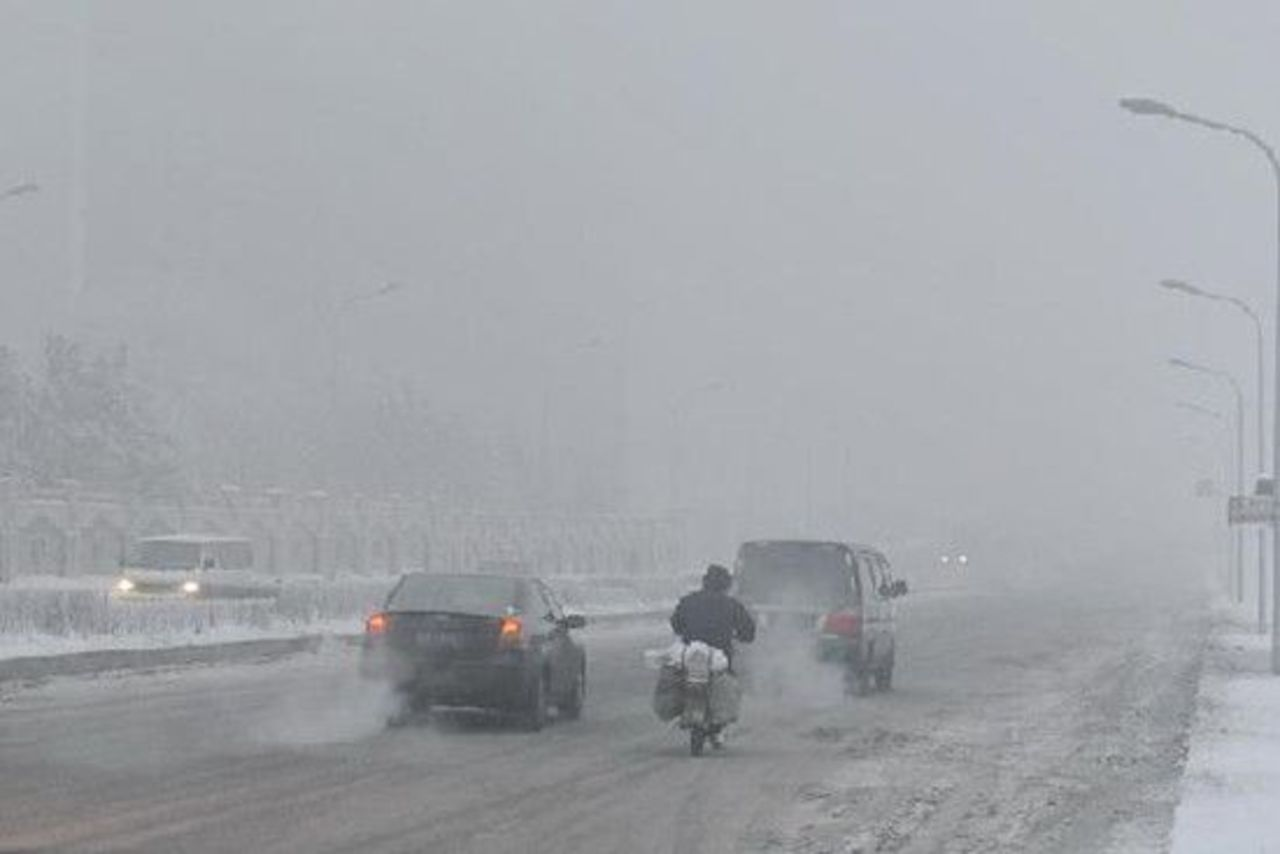car: (361, 569, 594, 728), (723, 537, 906, 695), (116, 529, 256, 603)
motorcycle: (673, 631, 734, 753)
person: (662, 566, 750, 728)
